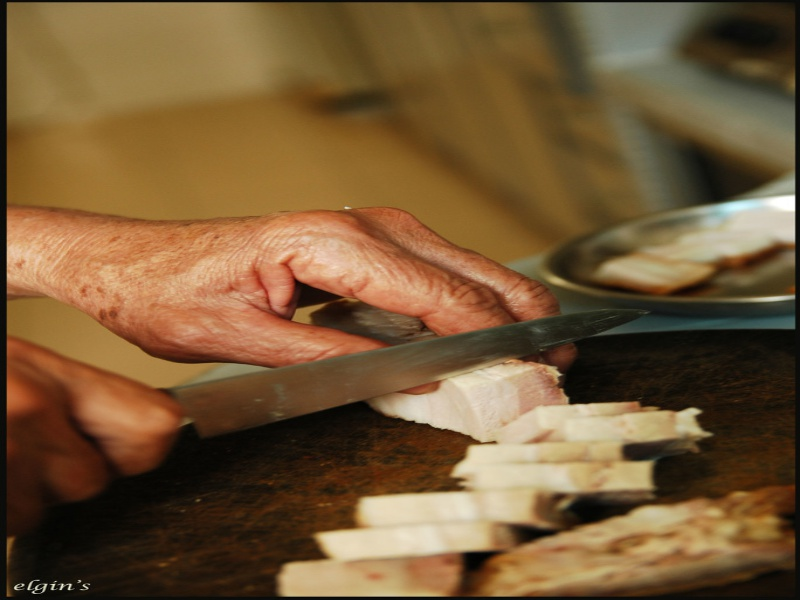knife: (89, 306, 650, 466)
